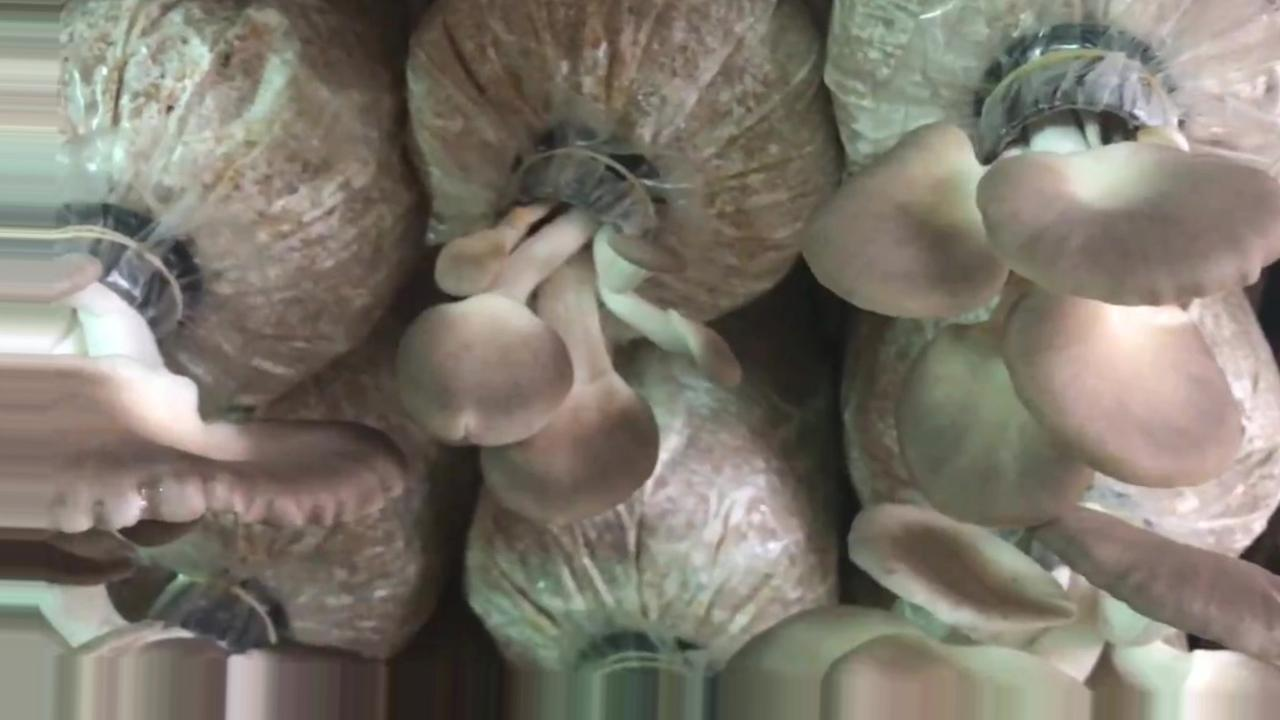nam: (798, 52, 1280, 531), (392, 125, 745, 523), (46, 195, 407, 535), (721, 499, 1280, 693)
